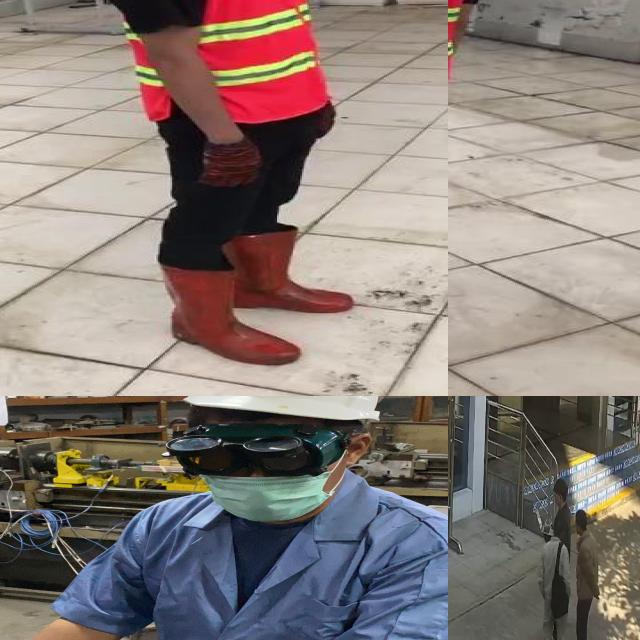No_Ear-Protection: (347, 433, 374, 466)
boots: (160, 262, 302, 367), (215, 230, 355, 317)
face_mask: (200, 471, 331, 522)
glasses: (166, 424, 349, 476)
hand_glove: (195, 141, 258, 186)
head_helmet: (184, 396, 380, 420)
person: (85, 0, 383, 379), (448, 0, 510, 301)
vest: (100, 0, 330, 121)
